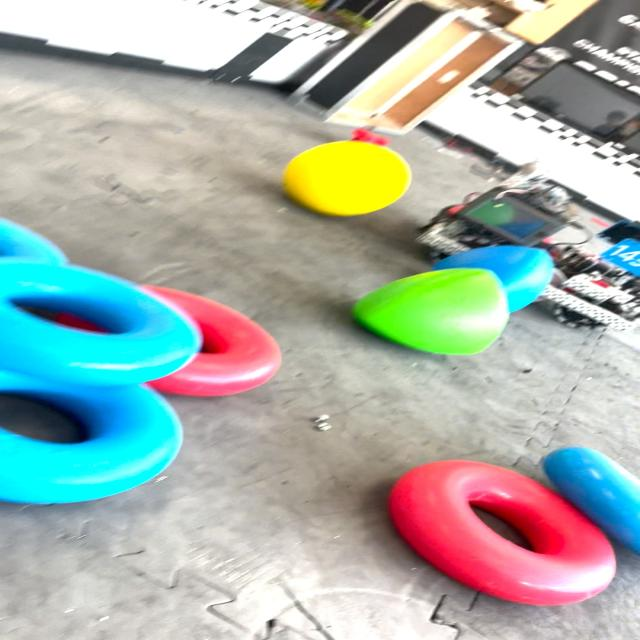Blue-Ring: (0, 258, 200, 386), (0, 370, 182, 504), (542, 448, 640, 552)
Red-Ring: (389, 460, 616, 605), (142, 285, 282, 396)
